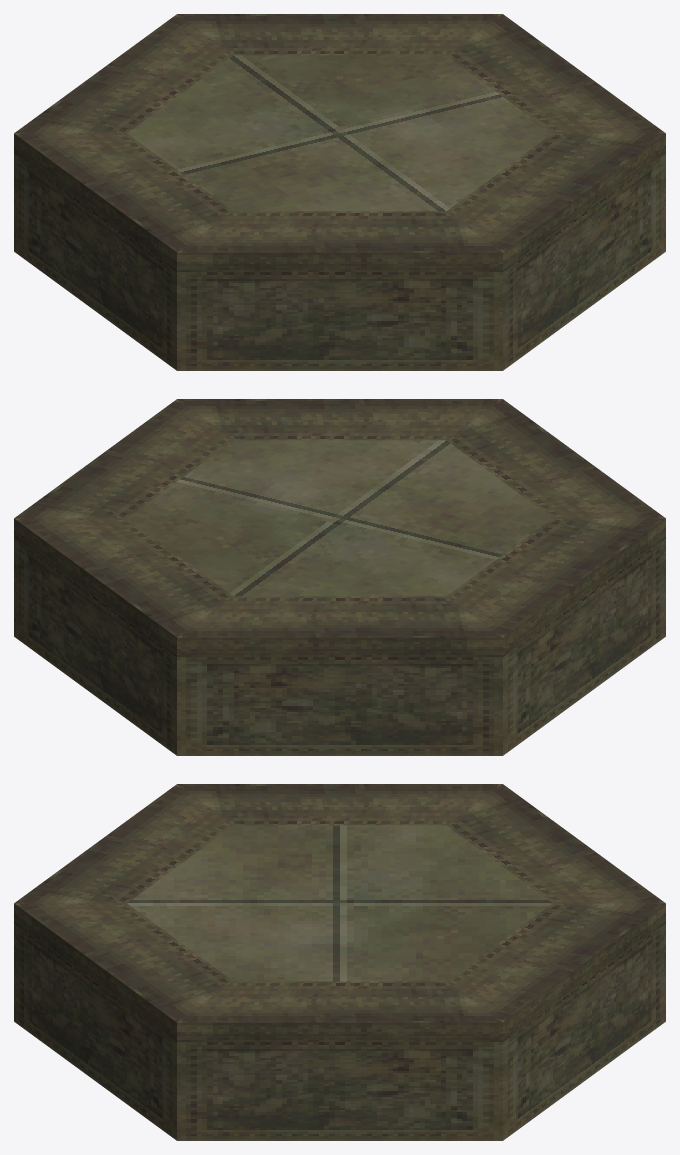
File: hexagon.glb
3 views of the same model, one above another, from view 1: azimuth 30°, elevation 25°; view 2: azimuth 150°, elevation 25°; view 3: azimuth 270°, elevation 25° (orthographic).
Visible parts, largest first — view 1: hexagon; view 2: hexagon; view 3: hexagon.
Part boxes in pixels (left/top/right/bottom): hexagon: left=14, top=14, right=665, bottom=370; hexagon: left=14, top=399, right=665, bottom=755; hexagon: left=14, top=784, right=665, bottom=1140.
Bounding box in the file's own units: 6.93 × 1.6 × 8.
Materials: 1 (1 with a texture image).
